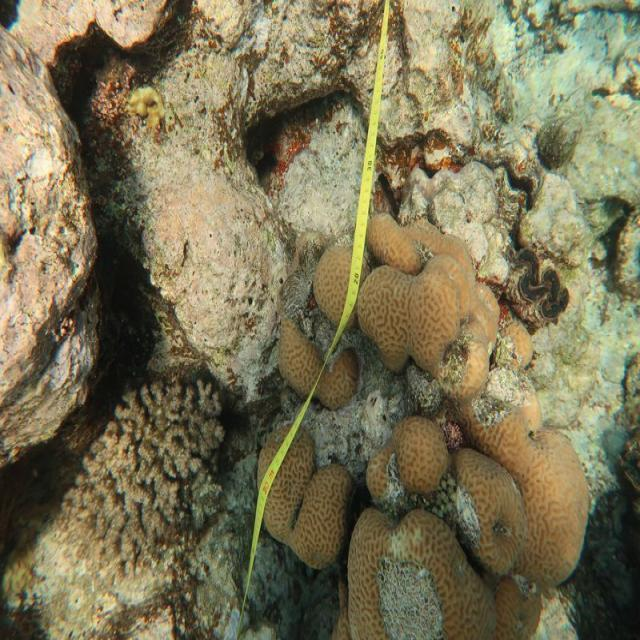Healthy Coral: (258, 425, 352, 586), (272, 310, 365, 419)
